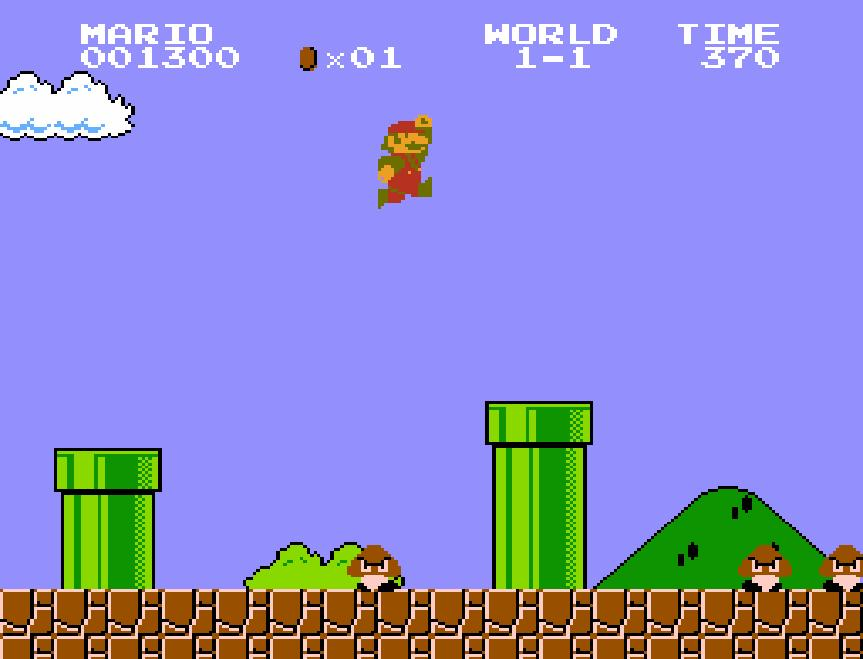big_mario: (376, 112, 434, 210)
